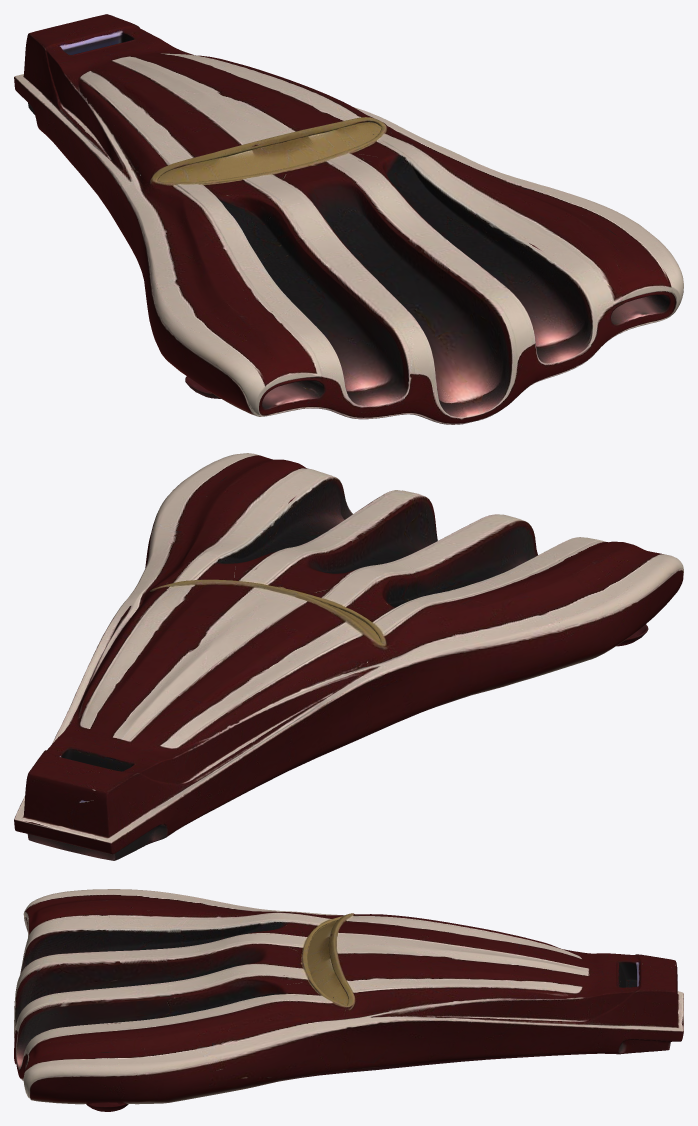
The model's file is cantor.glb.
The picture shows the model from 3 angles, top to bottom: view 1: azimuth 30°, elevation 25°; view 2: azimuth 150°, elevation 25°; view 3: azimuth 270°, elevation 25°; orthographic projection. The views are drawn at different scales.
Size of the model in its own units: 1.23 by 0.3658 by 1.9.
1 material, 1 textured.
